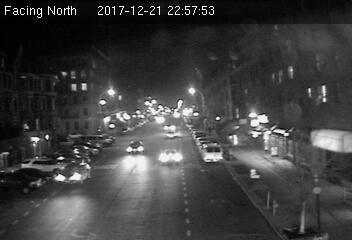car: (54, 160, 92, 187), (157, 149, 184, 164), (125, 139, 145, 154)
truck: (202, 143, 222, 162)
